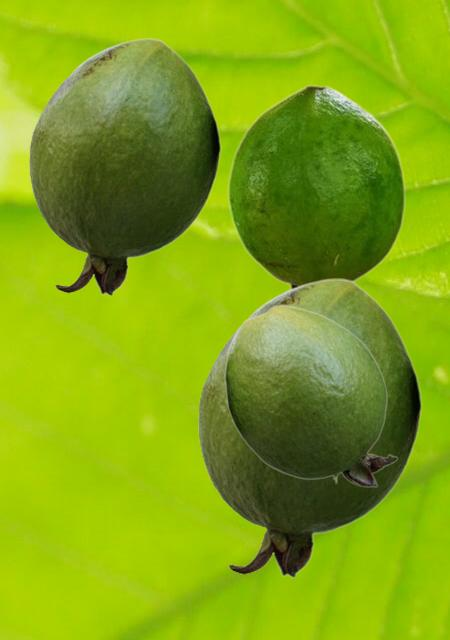guava: (198, 278, 421, 577), (29, 38, 220, 295), (227, 84, 405, 288), (224, 304, 397, 486)
